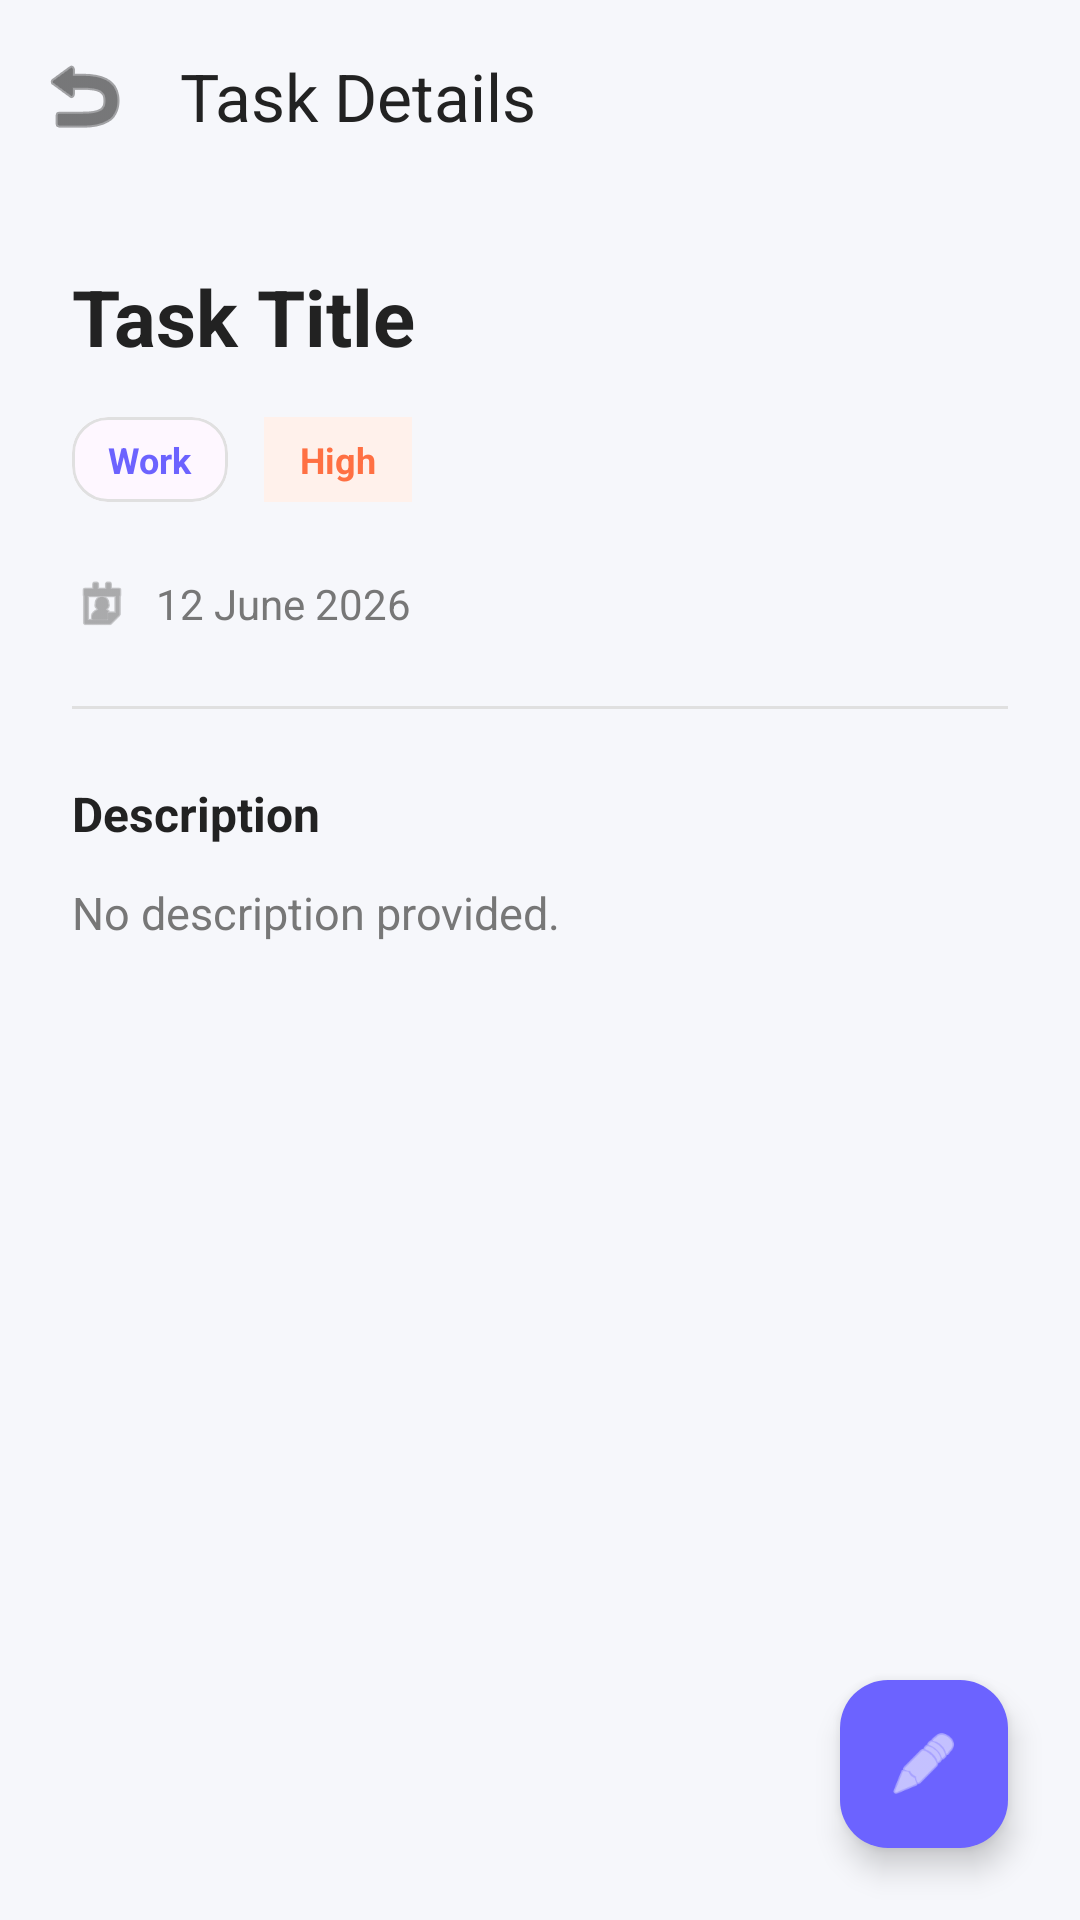

Named icons in this screenshot (1080 x 1920) and their bounding boxes, {"left": x1, "top": y1, "right": x2, "bottom": y2}:
calendar: {"left": 83, "top": 582, "right": 121, "bottom": 625}
edit: {"left": 840, "top": 1680, "right": 1008, "bottom": 1848}
